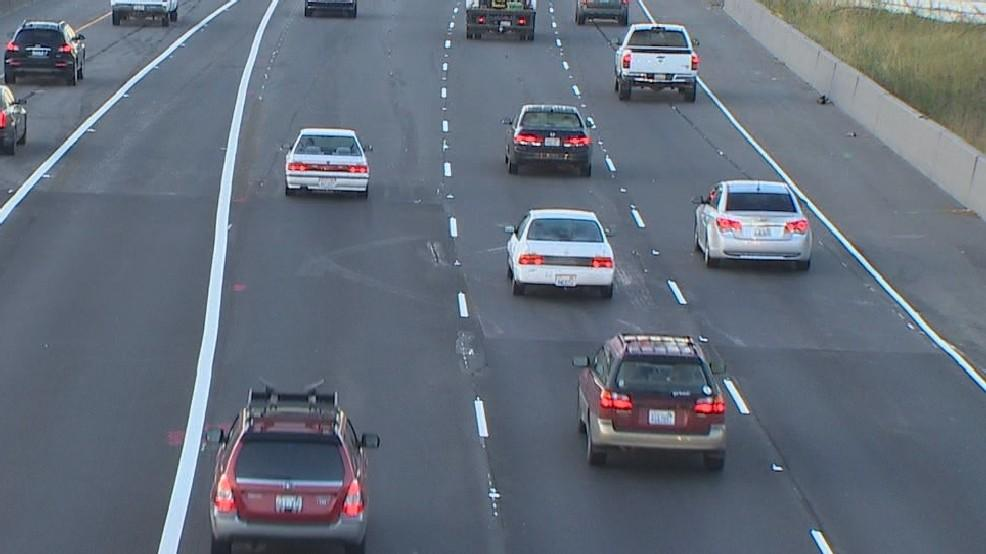car: (202, 375, 381, 554), (572, 330, 729, 471), (692, 178, 811, 268), (504, 207, 615, 300), (613, 23, 700, 104), (500, 104, 594, 178), (281, 126, 374, 200), (2, 18, 85, 86), (465, 1, 535, 41), (1, 80, 29, 156), (107, 1, 180, 27), (575, 1, 630, 24), (303, 1, 359, 19)
